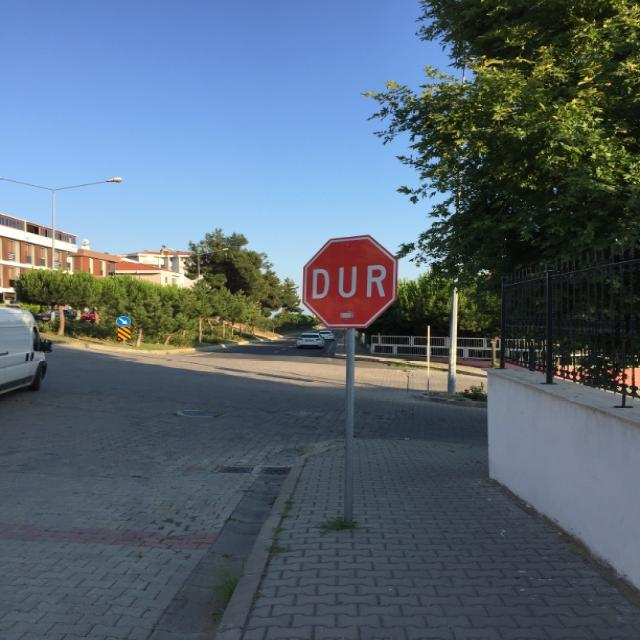dur: (290, 235, 402, 334)
